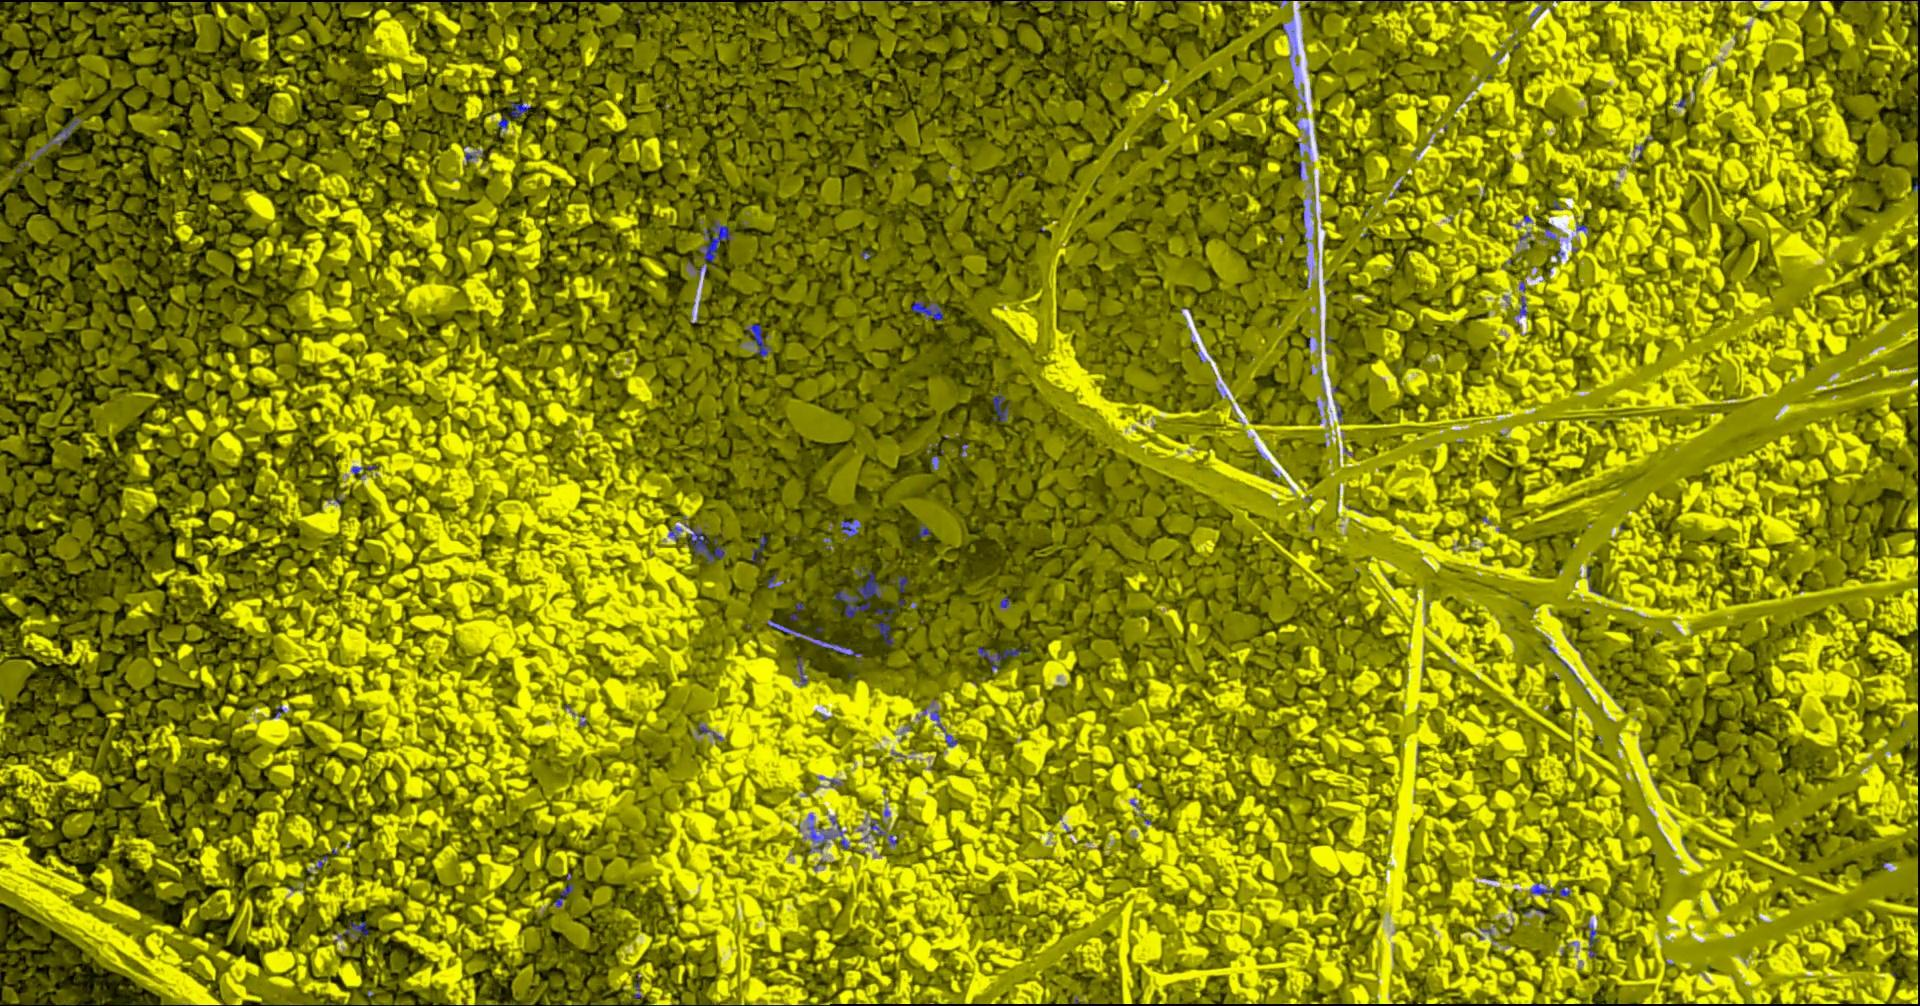ant: (766, 619, 862, 664), (833, 567, 881, 617), (701, 220, 733, 265), (684, 527, 724, 561), (497, 102, 530, 136), (977, 647, 1018, 671), (44, 119, 77, 149), (871, 606, 895, 645), (744, 323, 770, 357), (910, 298, 943, 320), (808, 826, 829, 850), (990, 391, 1008, 420), (554, 883, 574, 906), (343, 920, 368, 937), (750, 535, 766, 561), (795, 655, 808, 685), (1587, 923, 1597, 956), (841, 518, 858, 536), (889, 575, 909, 591), (1530, 882, 1554, 894), (869, 818, 883, 835), (350, 465, 375, 473), (918, 523, 930, 537)
